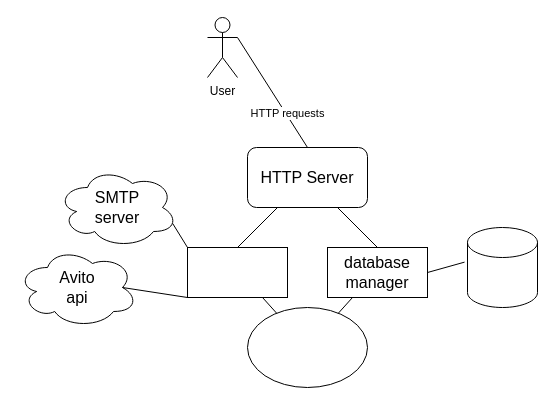
The diagram is 555 pixels wide and 405 high, and some of its shapes have lost their labels. The shapes that lost their labels are listed below. From the top down, each one's centre as x and y in pixels, then its label:
pixel 237 272: net manager
pixel 502 267: Sqlite database
pixel 307 347: Handler
